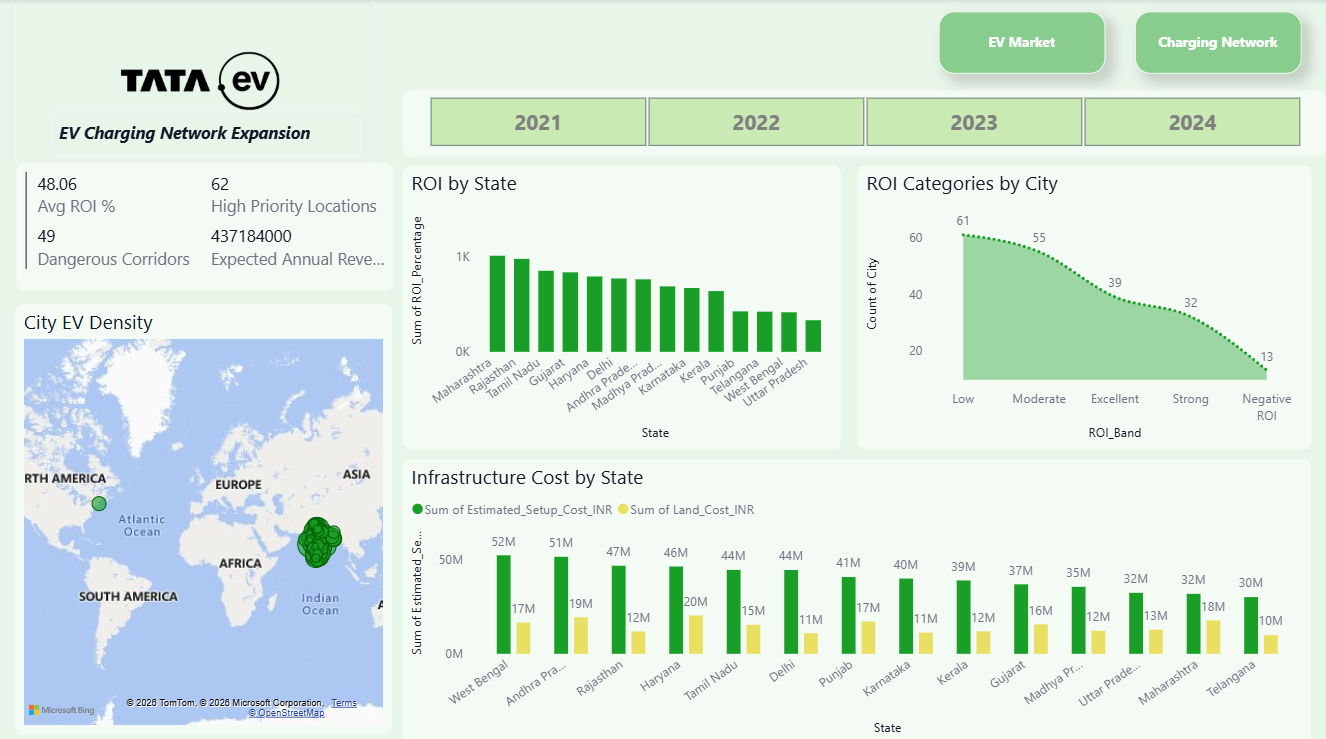

What the dashboard file says about the page in this screenshot:
{"tool":"powerbi","page":{"name":"Strategy & ROI","canvas":[1280,720],"ordinal":2},"visuals":[{"type":"multiRowCard","fields":{"Values":["_measure.Avg ROI %","_measure.High Priority Locations","_measure.Dangerous Corridors","_measure.Expected Annual Revenue"]},"box":[15.7,158.6,364.3,124.3],"z":0},{"type":"clusteredColumnChart","title":"Infrastructure Cost by State","fields":{"Category":["Expansion_Candidates_C.State"],"Y":["Sum(Expansion_Candidates_C.Estimated_Setup_Cost_INR)","Sum(Expansion_Candidates_C.Land_Cost_INR)"]},"box":[388.8,443.8,877.1,276.2],"z":1000},{"type":"columnChart","title":"ROI by State","fields":{"Category":["Expansion_Candidates_C.State"],"Y":["Sum(Expansion_Candidates_C.ROI_Percentage)"]},"box":[388.6,160,422.9,274.3],"z":2000},{"type":"map","title":"City EV Density","fields":{"Category":["Expansion_Candidates_C.City"],"Size":["Sum(Expansion_Candidates_C.Estimated_EV_Density)"]},"box":[14.3,294.3,364.3,415.7],"z":3000},{"type":"areaChart","title":"ROI Categories by City ","fields":{"Y":["CountNonNull(Expansion_Candidates_C.City)"],"Category":["Expansion_Candidates_C.ROI_Band"]},"box":[827.1,160,438.6,274.3],"z":4000},{"type":"slicer","fields":{"Values":["EV_Vehicle_Registrations_C.Registration_Date.Variation.Date Hierarchy.Year"]},"box":[388.5,88.1,891.6,63.9],"z":5000},{"type":"image","box":[14.5,0,348.7,160.5],"z":6000},{"type":"actionButton","title":"dgdfsg","box":[906,12.1,160.5,60.3],"z":7000},{"type":"actionButton","title":"dgdfsg","box":[1095.4,12.1,160.5,60.3],"z":8000},{"type":"textbox","box":[48.3,108.6,300.4,43.4],"z":9000}]}

Visuals, with their boxes in screenshot pixels (x1, y1, x2, y2), scaled from the page's 1280x720 canvas onto the 1326x739 screenshot:
multiRowCard - _measure.Avg ROI % x _measure.High Priority Locations: region(16, 163, 394, 290)
"Infrastructure Cost by State" clusteredColumnChart: region(403, 456, 1311, 738)
"ROI by State" columnChart: region(403, 164, 841, 446)
"City EV Density" map: region(15, 302, 392, 729)
"ROI Categories by City " areaChart: region(857, 164, 1311, 446)
slicer - EV_Vehicle_Registrations_C.Registration_Date.Variation.Date Hierarchy.Year: region(402, 90, 1325, 156)
image: region(15, 0, 376, 165)
"dgdfsg" actionButton: region(939, 12, 1105, 74)
"dgdfsg" actionButton: region(1135, 12, 1301, 74)
textbox: region(50, 111, 361, 156)
